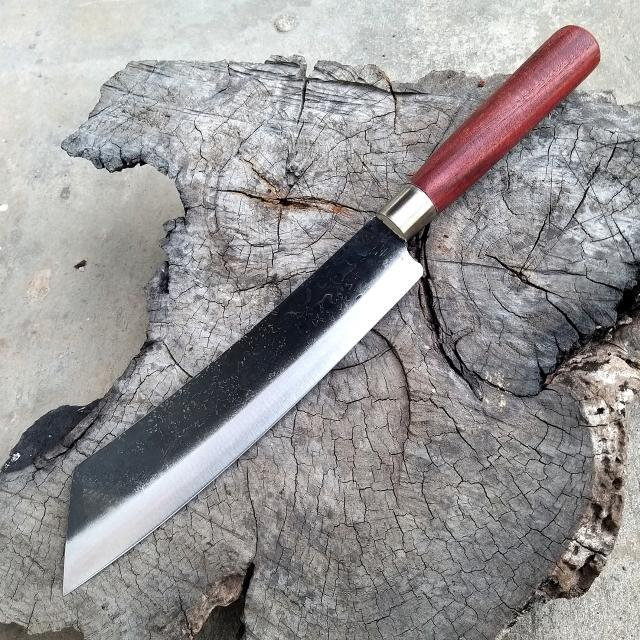eto: (57, 20, 607, 595)
